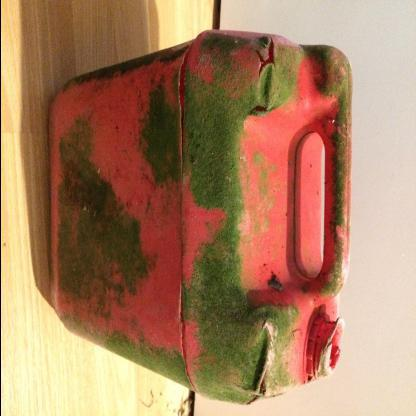plastik: (10, 46, 390, 354)
